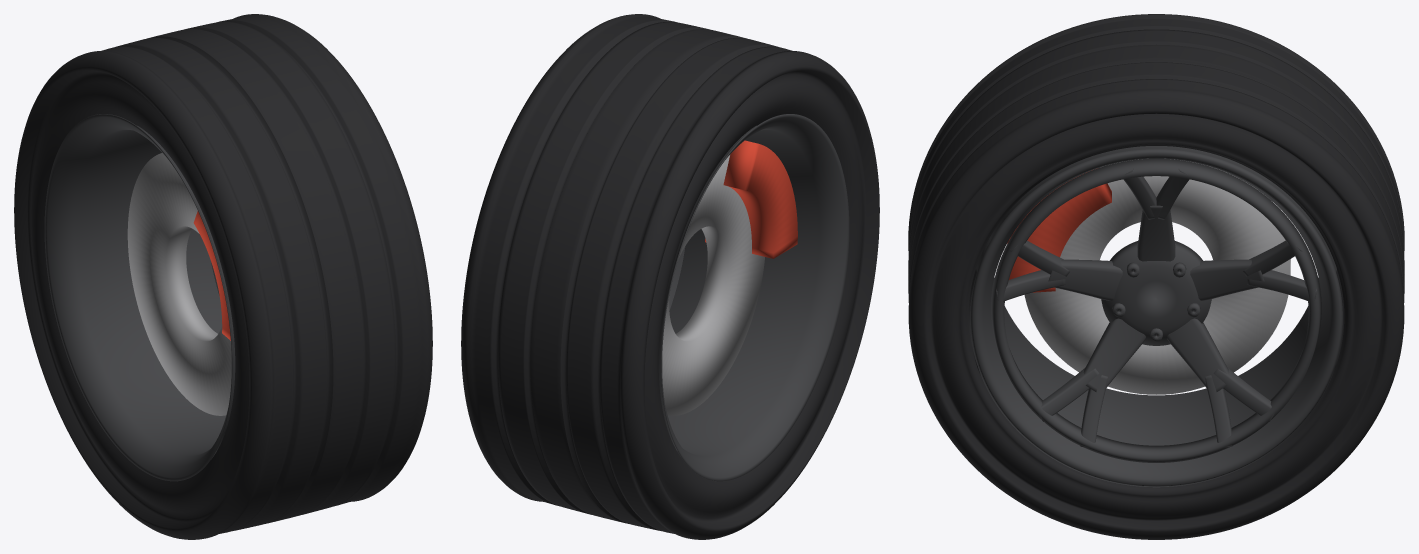
File: wheel_FR.fbx
3 renders of one model, left to right at view 1: azimuth 30°, elevation 25°; view 2: azimuth 150°, elevation 25°; view 3: azimuth 270°, elevation 25°, orthographic.
Parts seen in each view (by area): view 1: CH_Wheel_FR_Tire, CH_Wheel_FR_Rim, CH_Wheel_FR_Disc, CH_Wheel_FR_Caliper; view 2: CH_Wheel_FR_Tire, CH_Wheel_FR_Rim, CH_Wheel_FR_Disc, CH_Wheel_FR_Caliper; view 3: CH_Wheel_FR_Tire, CH_Wheel_FR_Rim, CH_Wheel_FR_Disc, CH_Wheel_FR_Caliper.
Part boxes in pixels (bbox=[...]): CH_Wheel_FR_Tire: bbox=[14, 14, 432, 539]; CH_Wheel_FR_Rim: bbox=[44, 114, 235, 481]; CH_Wheel_FR_Disc: bbox=[127, 153, 231, 415]; CH_Wheel_FR_Caliper: bbox=[193, 211, 230, 340]; CH_Wheel_FR_Tire: bbox=[461, 14, 879, 539]; CH_Wheel_FR_Rim: bbox=[658, 114, 849, 481]; CH_Wheel_FR_Disc: bbox=[662, 155, 764, 415]; CH_Wheel_FR_Caliper: bbox=[705, 140, 797, 258]; CH_Wheel_FR_Tire: bbox=[908, 14, 1404, 539]; CH_Wheel_FR_Rim: bbox=[970, 146, 1342, 487]; CH_Wheel_FR_Disc: bbox=[1024, 159, 1290, 394]; CH_Wheel_FR_Caliper: bbox=[1007, 172, 1111, 292].
Size of the model in its own units: 0.3045 by 0.7215 by 0.7215.
